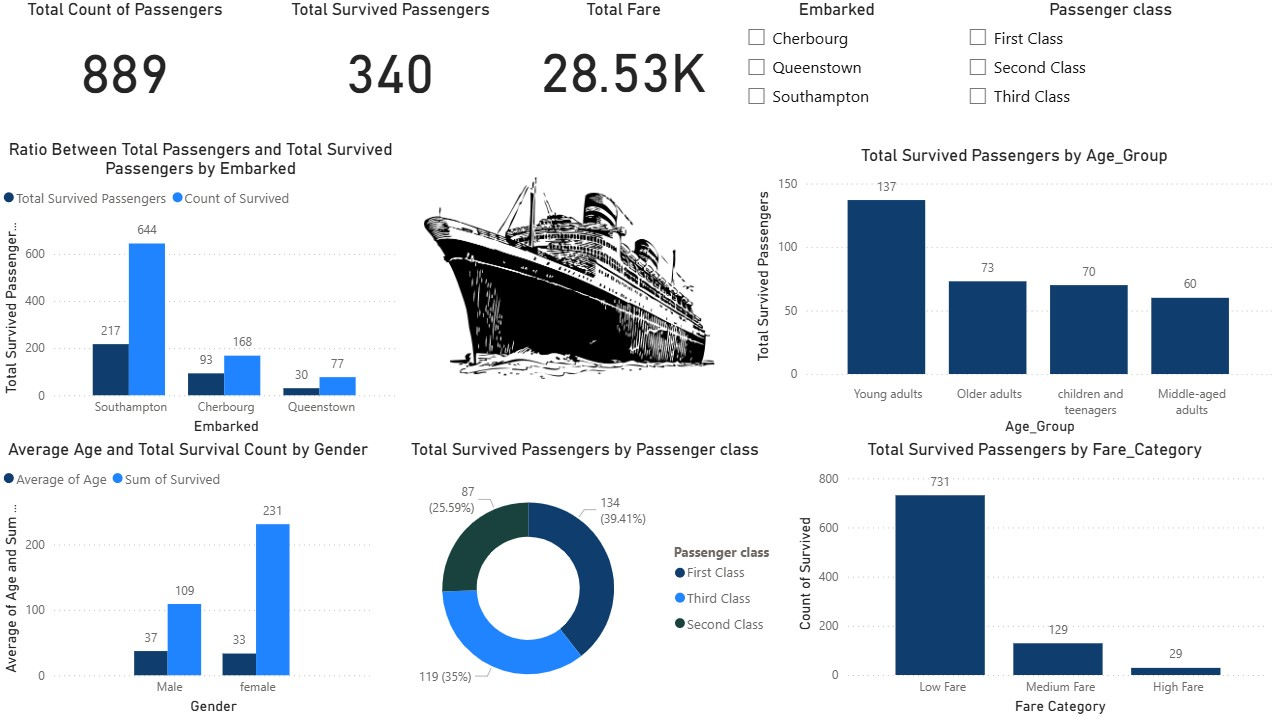

This screenshot's page, from the dashboard's own definition file:
{"tool":"powerbi","page":{"name":"Page 1","canvas":[1280,720],"ordinal":0},"visuals":[{"type":"card","title":"Total Count of Passengers","fields":{"Values":["CountNonNull(Titanic_cleannn.Survived)"]},"box":[0,0,253.9,116.6],"z":0},{"type":"card","title":"Total Survived Passengers","fields":{"Values":["Sum(Titanic_cleannn.Survived)"]},"box":[253.8,0,277.5,116.2],"z":1000},{"type":"card","title":"Total Fare","fields":{"Values":["Sum(Titanic_cleannn.Fare)"]},"box":[513.8,0,223.8,116.2],"z":2000},{"type":"donutChart","title":"Total Survived Passengers by Passenger class","fields":{"Category":["Titanic_cleannn.Passenger class"],"Y":["Sum(Titanic_cleannn.Survived)"]},"box":[380,440,413.8,280],"z":3000},{"type":"clusteredColumnChart","title":"Average Age and Total Survival Count by Gender","fields":{"Y":["Avg(Titanic_cleannn.Age)","Sum(Titanic_cleannn.Survived)"],"Category":["Titanic_cleannn.Sex"]},"box":[0,440,380,280],"z":4000},{"type":"clusteredColumnChart","title":"Ratio Between Total Passengers and Total Survived Passengers by Embarked","fields":{"Category":["Titanic_cleannn.Embarked"],"Y":["Sum(Titanic_cleannn.Survived)","CountNonNull(Titanic_cleannn.Survived)"]},"box":[0,140,405,300],"z":5000},{"type":"slicer","title":"Embarked","fields":{"Values":["Titanic_cleannn.Embarked"]},"box":[737.5,0,202.5,116.2],"z":6000},{"type":"slicer","title":"Passenger class","fields":{"Values":["Titanic_cleannn.Passenger class"]},"box":[958.8,0,307.5,116.2],"z":7000},{"type":"clusteredColumnChart","title":"Total Survived Passengers by Age_Group","fields":{"Category":["Titanic_cleannn.Age_Group"],"Y":["Sum(Titanic_cleannn.Survived)"]},"box":[752.5,146.2,527.5,293.8],"z":8000},{"type":"image","box":[421.2,128.8,300,300],"z":9000},{"type":"clusteredColumnChart","title":"Total Survived Passengers by Fare_Category","fields":{"Category":["Titanic_cleannn.Fare Category"],"Y":["CountNonNull(Titanic_cleannn.Survived)"]},"box":[794,440,486,280],"z":10000}]}

Visuals, with their boxes in screenshot pixels (x1, y1, x2, y2), scaled from the page's 1280x720 canvas onto the 1272x717 screenshot:
"Total Count of Passengers" card: box=[0, 0, 252, 116]
"Total Survived Passengers" card: box=[252, 0, 528, 116]
"Total Fare" card: box=[511, 0, 733, 116]
"Total Survived Passengers by Passenger class" donutChart: box=[378, 438, 789, 716]
"Average Age and Total Survival Count by Gender" clusteredColumnChart: box=[0, 438, 378, 716]
"Ratio Between Total Passengers and Total Survived Passengers by Embarked" clusteredColumnChart: box=[0, 139, 402, 438]
"Embarked" slicer: box=[733, 0, 934, 116]
"Passenger class" slicer: box=[953, 0, 1258, 116]
"Total Survived Passengers by Age_Group" clusteredColumnChart: box=[748, 146, 1271, 438]
image: box=[419, 128, 717, 427]
"Total Survived Passengers by Fare_Category" clusteredColumnChart: box=[789, 438, 1271, 716]
